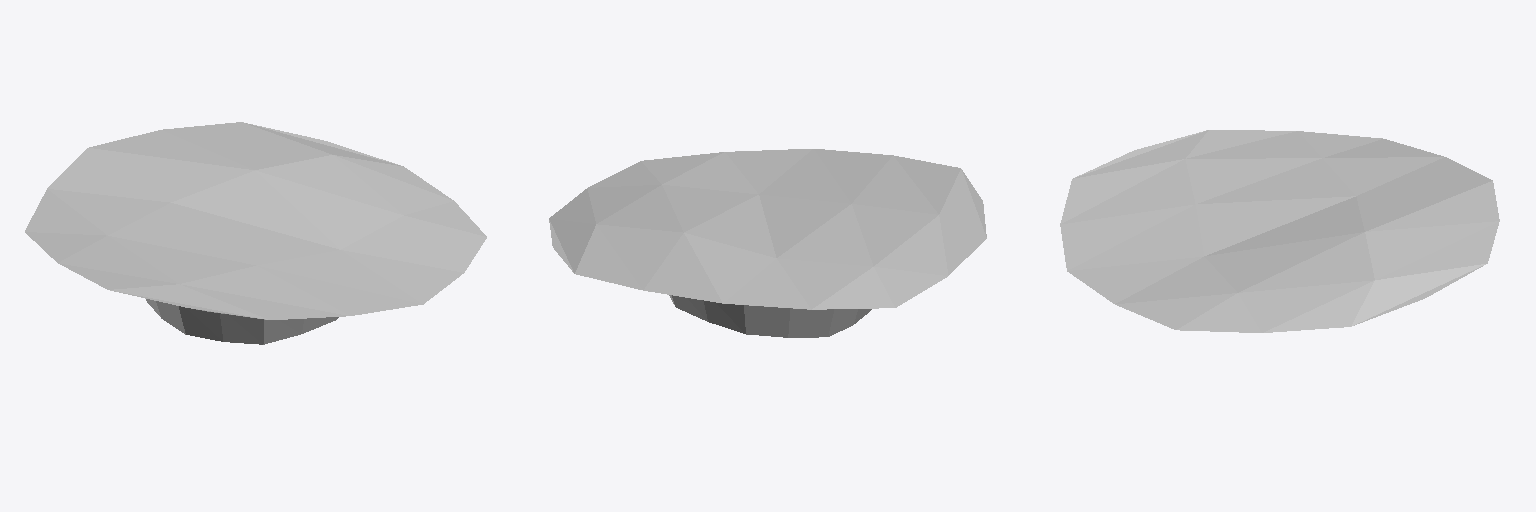
Rendered from slice_08.obj.
3 renders of one model, left to right at view 1: azimuth 30°, elevation 25°; view 2: azimuth 150°, elevation 25°; view 3: azimuth 270°, elevation 25°, orthographic.
Parts seen in each view (by area): view 1: slice_08_Cube.018; view 2: slice_08_Cube.018; view 3: slice_08_Cube.018.
Boxes of the visible parts, <box> form: slice_08_Cube.018: <box>25,122,486,344</box>; slice_08_Cube.018: <box>549,149,986,337</box>; slice_08_Cube.018: <box>1060,130,1499,332</box>.
Bounding box in the file's own units: 1.4 × 0.3198 × 1.41.